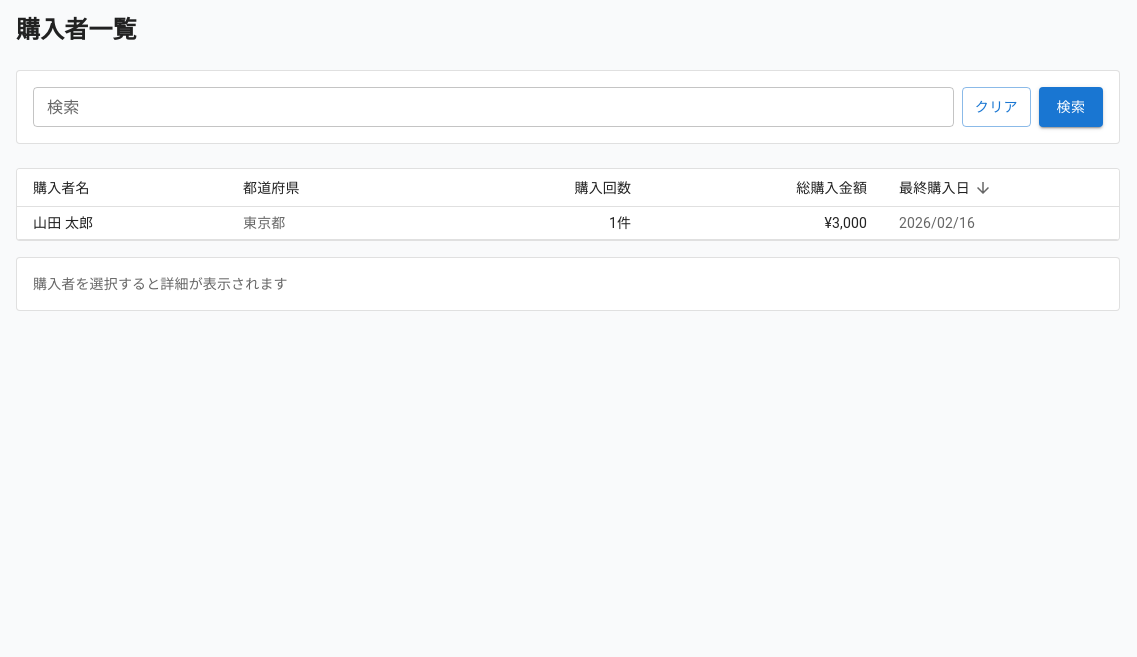
Test: BuyersPage (UC-007) › 購入者一覧が表示され、行クリックで詳細が表示される
The image size is (1137, 657).
# 行クリックで詳細表示
Click the text "山田 太郎" at (63, 223), box [33,215,93,231]
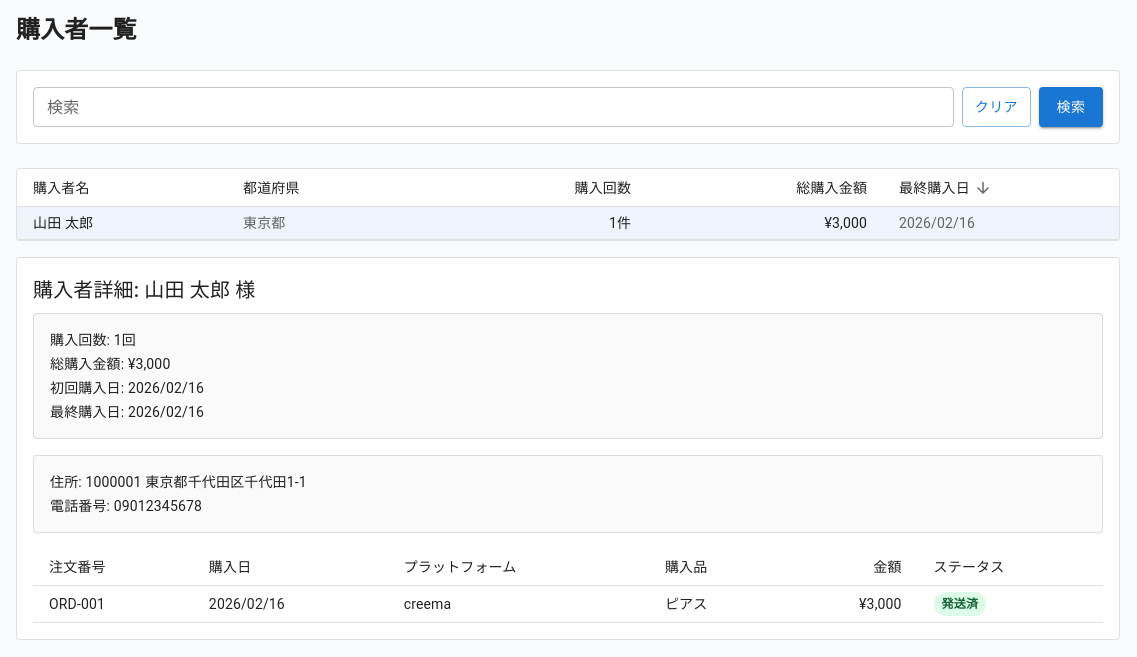
Expected: the heading "購入者詳細: 山田 太郎 様" is shown, [33,278,255,302]
Expected: the text "電話番号: 09012345678" is shown, [50,498,202,514]
Expected: the text "ORD-001" is shown, [33,586,193,623]
